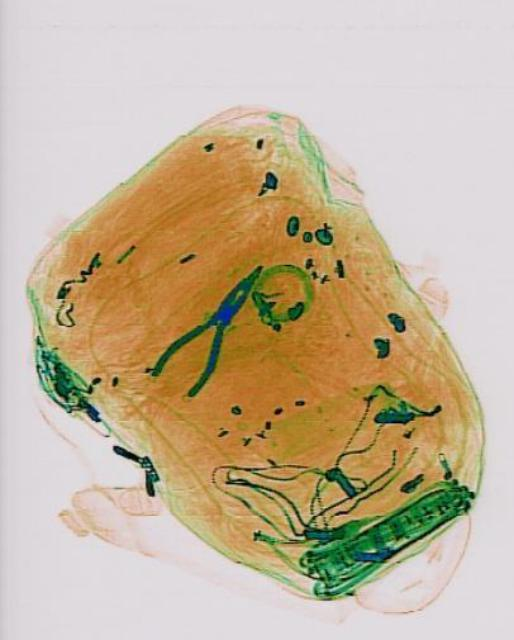Pliers: (147, 245, 277, 407)
